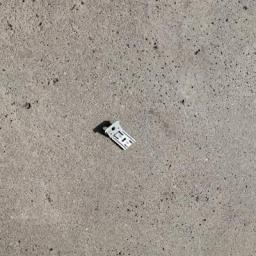FOD: (93, 115, 139, 156)
